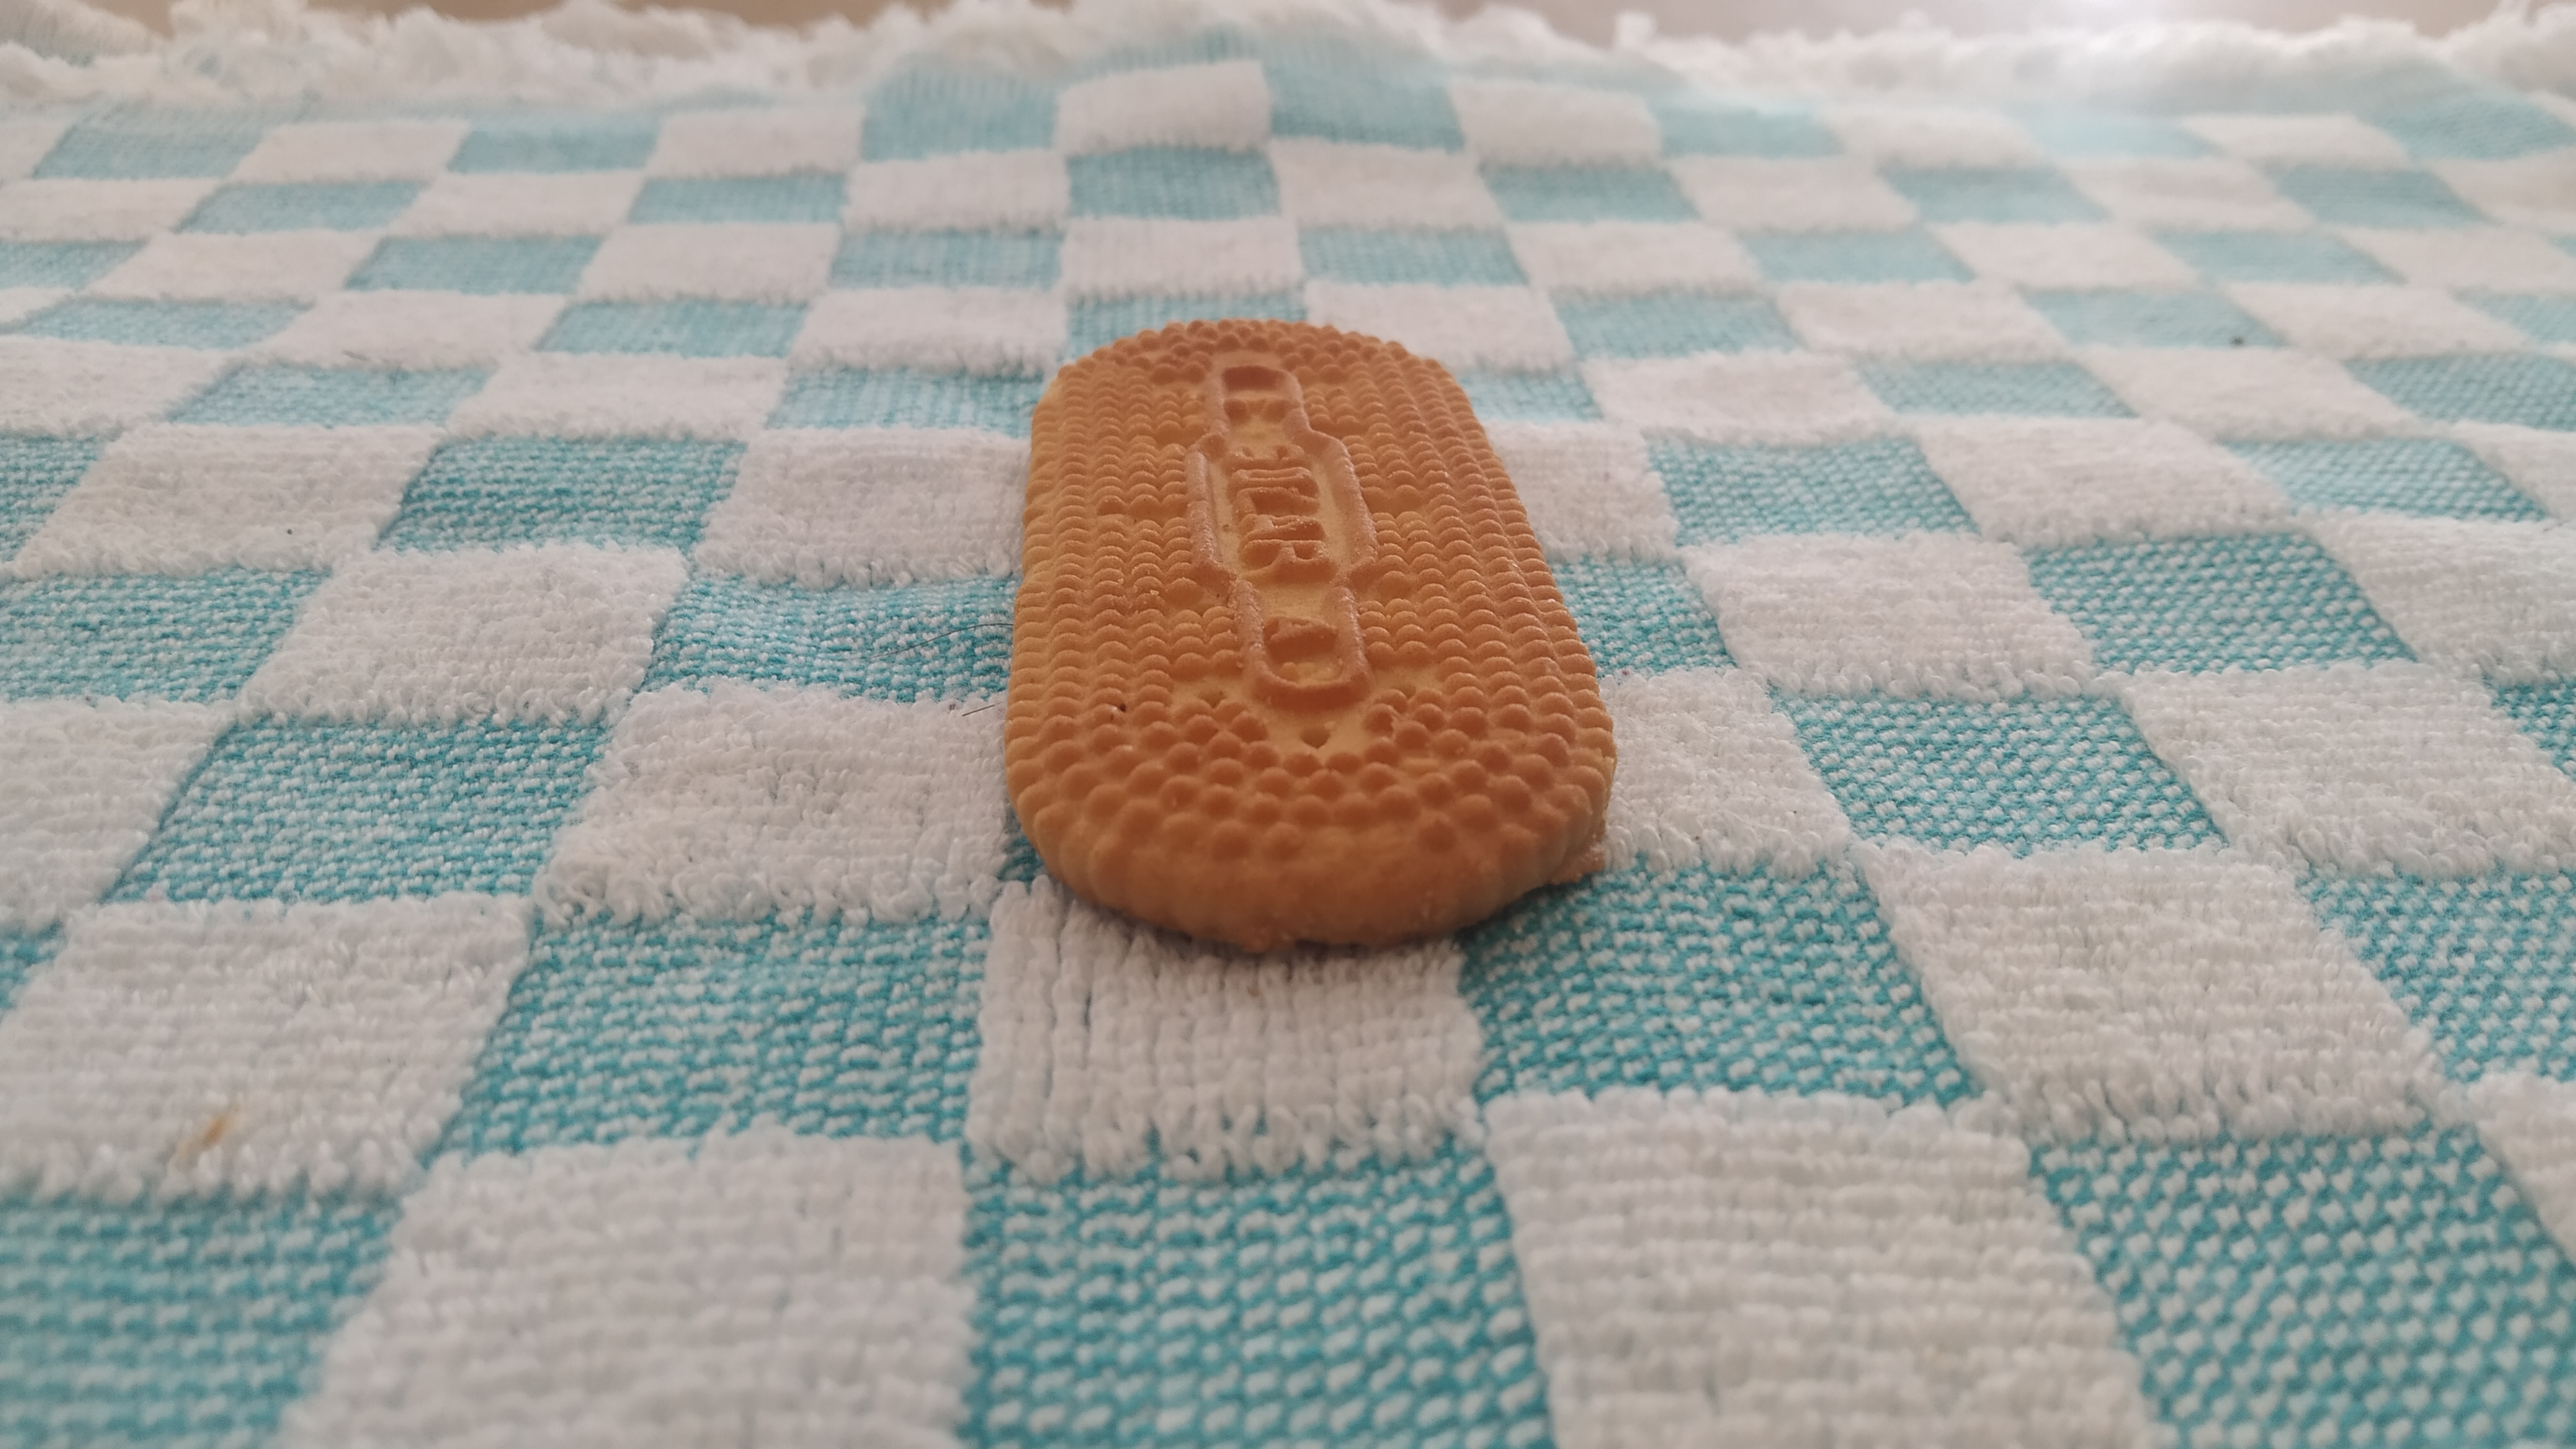solar: (1005, 318, 1619, 947)
